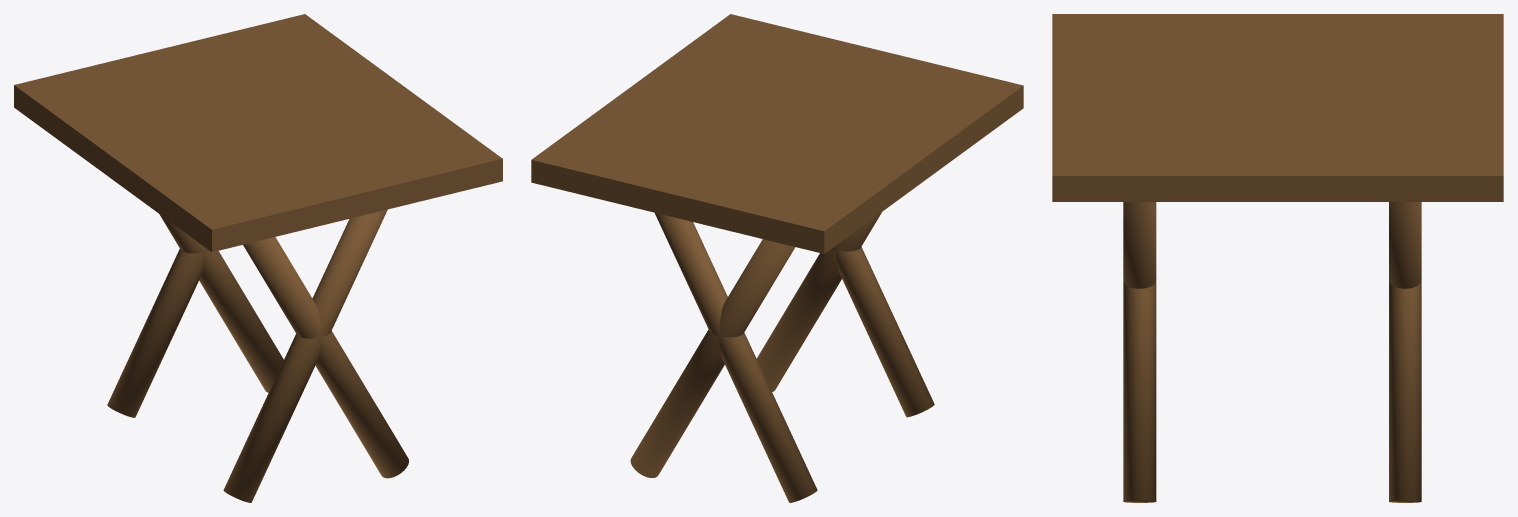
Rendered from catrecito.glb.
3 views of the same model, side by side, from view 1: azimuth 30°, elevation 25°; view 2: azimuth 150°, elevation 25°; view 3: azimuth 270°, elevation 25° (orthographic). The views are drawn at different scales.
Parts seen in each view (by area): view 1: catrecillo_Cylinder.001; view 2: catrecillo_Cylinder.001; view 3: catrecillo_Cylinder.001.
Part boxes in pixels (bbox=[...]): catrecillo_Cylinder.001: bbox=[14, 14, 502, 502]; catrecillo_Cylinder.001: bbox=[531, 14, 1023, 502]; catrecillo_Cylinder.001: bbox=[1052, 14, 1503, 502].
Size of the model in its own units: 1.4 by 1.5 by 1.65.
